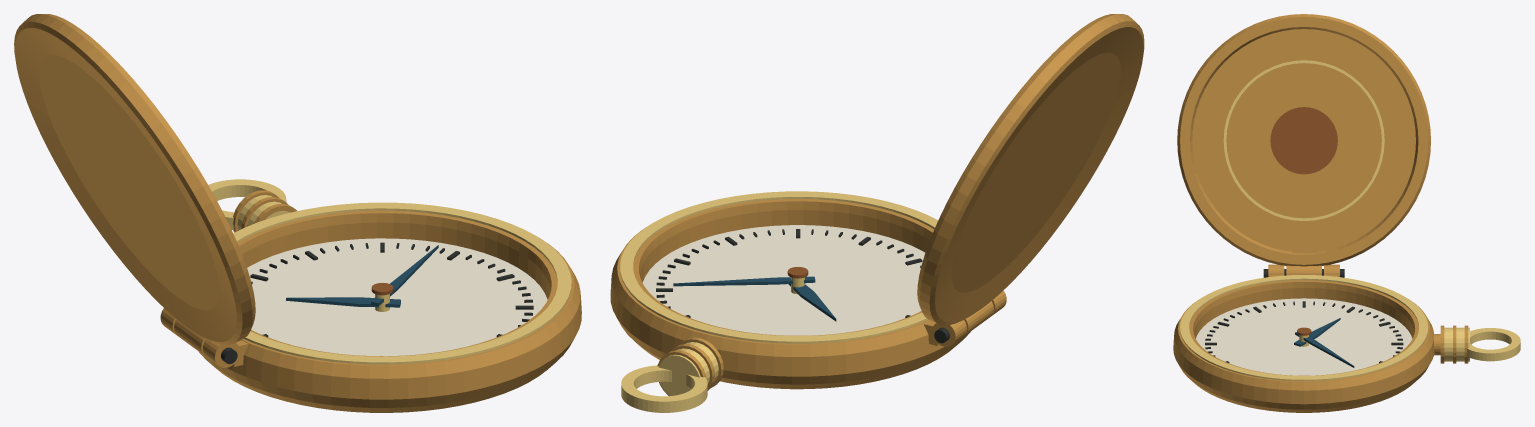
3 views of the same model, side by side, from view 1: azimuth 30°, elevation 25°; view 2: azimuth 150°, elevation 25°; view 3: azimuth 270°, elevation 25° (orthographic). The views are drawn at different scales.
Visible parts, largest first — view 1: Cover_ShallowThickLid, Case_ThickClosedBowl, Dial_RecessedEnamel, Bezel_RaisedLip, Bow_TrueOpenLoop, Hands_Hour, Crown_FacetedGrip, Hinge_BoredSleeve_CaseLower, Hands_Minute; view 2: Cover_ShallowThickLid, Dial_RecessedEnamel, Case_ThickClosedBowl, Bezel_RaisedLip, Bow_TrueOpenLoop, Crown_FacetedGrip, Hands_Minute, Hinge_BoredSleeve_CaseUpper; view 3: Cover_ShallowThickLid, Case_ThickClosedBowl, Dial_RecessedEnamel, Bezel_RaisedLip, Cover_CentralMedallion, Cover_InteriorRaisedRing, Bow_TrueOpenLoop, Crown_FacetedGrip, Hinge_BoredSleeve_CoverCentre.
Part boxes in pixels (<box>): Cover_ShallowThickLid: <box>14,14,255,344</box>; Case_ThickClosedBowl: <box>199,210,581,412</box>; Dial_RecessedEnamel: <box>247,238,547,356</box>; Bezel_RaisedLip: <box>233,202,571,364</box>; Bow_TrueOpenLoop: <box>208,179,286,229</box>; Hands_Hour: <box>286,297,400,307</box>; Crown_FacetedGrip: <box>237,195,289,230</box>; Hinge_BoredSleeve_CaseLower: <box>203,339,239,367</box>; Hands_Minute: <box>371,245,438,306</box>; Cover_ShallowThickLid: <box>917,14,1144,325</box>; Dial_RecessedEnamel: <box>642,225,925,335</box>; Case_ThickClosedBowl: <box>610,199,970,389</box>; Bezel_RaisedLip: <box>620,191,938,343</box>; Bow_TrueOpenLoop: <box>621,365,707,412</box>; Crown_FacetedGrip: <box>659,342,718,395</box>; Hands_Minute: <box>673,276,815,286</box>; Hinge_BoredSleeve_CaseUpper: <box>932,320,966,346</box>; Cover_ShallowThickLid: <box>1177,14,1430,266</box>; Case_ThickClosedBowl: <box>1173,280,1434,412</box>; Dial_RecessedEnamel: <box>1196,298,1412,375</box>; Bezel_RaisedLip: <box>1180,275,1428,381</box>; Cover_CentralMedallion: <box>1270,107,1337,174</box>; Cover_InteriorRaisedRing: <box>1223,60,1384,220</box>; Bow_TrueOpenLoop: <box>1466,328,1520,361</box>; Crown_FacetedGrip: <box>1444,327,1469,361</box>; Hinge_BoredSleeve_CoverCentre: <box>1286,265,1321,275</box>.
Size of the model in its own units: 0.0935 by 0.0704 by 0.0876.
